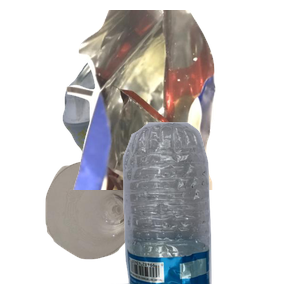glass: (43, 159, 187, 300)
metal: (60, 10, 300, 190)
plastic: (111, 120, 300, 300)
trash: (63, 10, 300, 190)
